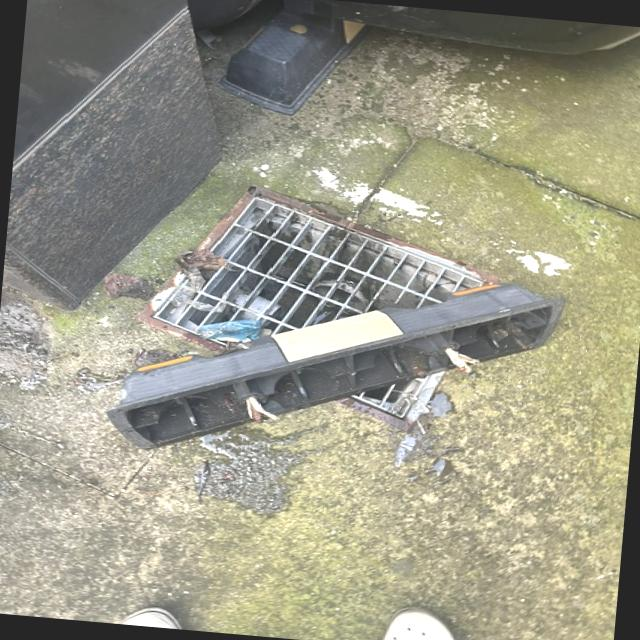drain_area: (154, 197, 484, 335), (347, 376, 428, 419)
drain_full: (153, 196, 482, 420)
